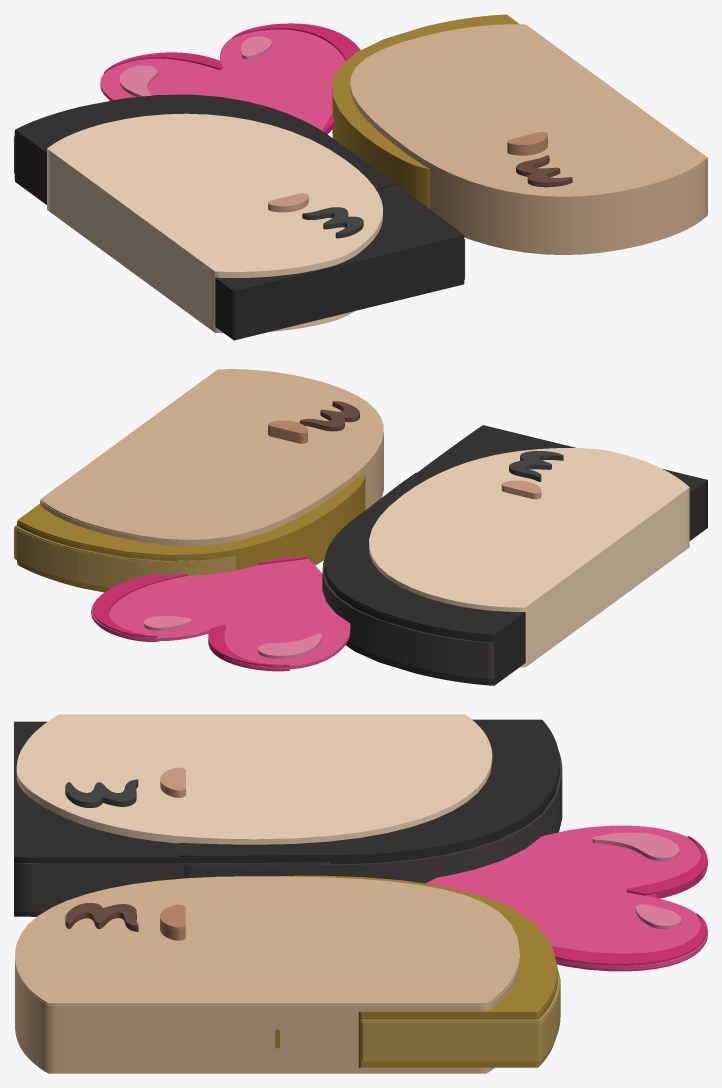
The model's file is emoji_u1f469_1f3fb_200d_2764_200d_1f48b_200d_1f468_1f3fc.glb.
3 renders of one model, top to bottom at view 1: azimuth 30°, elevation 25°; view 2: azimuth 150°, elevation 25°; view 3: azimuth 270°, elevation 25°, orthographic. The views are drawn at different scales.
Parts seen in each view (by area): view 1: emoji_u1f469_1f3fb_200d_2764_200d_1f48b_200d_1f468_1f3fc; view 2: emoji_u1f469_1f3fb_200d_2764_200d_1f48b_200d_1f468_1f3fc; view 3: emoji_u1f469_1f3fb_200d_2764_200d_1f48b_200d_1f468_1f3fc.
Boxes of the visible parts, x1,y1,x2,y2 form: emoji_u1f469_1f3fb_200d_2764_200d_1f48b_200d_1f468_1f3fc: (14,14,707,340); emoji_u1f469_1f3fb_200d_2764_200d_1f48b_200d_1f468_1f3fc: (14,369,707,685); emoji_u1f469_1f3fb_200d_2764_200d_1f48b_200d_1f468_1f3fc: (14,714,707,1073).
Bounding box in the file's own units: 0.0336 × 0.0052 × 0.034.
